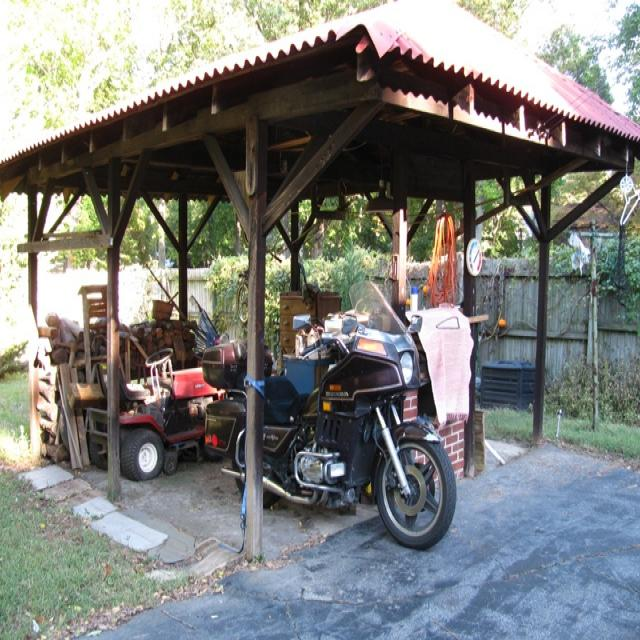motor: (230, 279, 456, 550)
